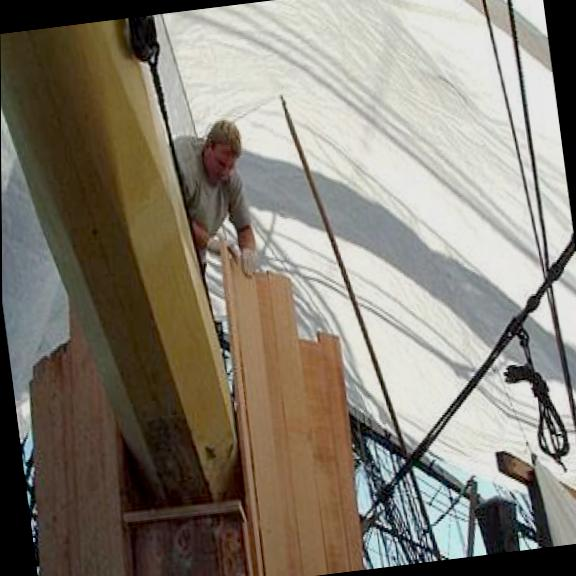no_safety_vest: (155, 126, 256, 267)
